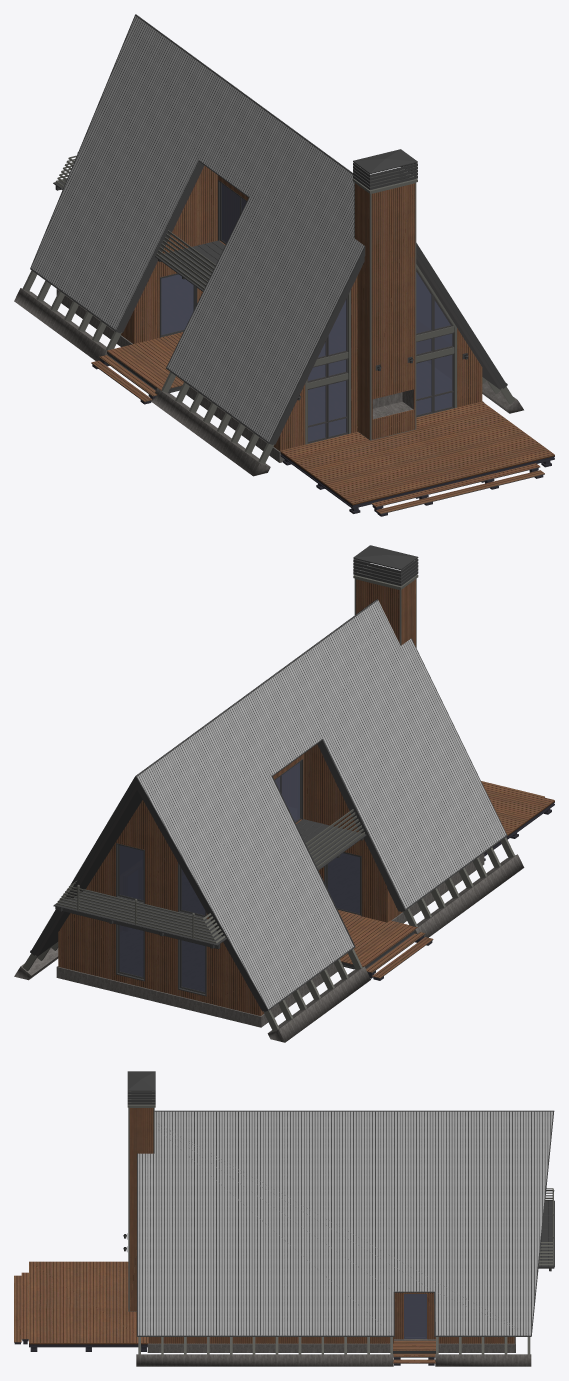
The model's file is Maison en A.glb.
3 renders of one model, top to bottom at view 1: azimuth 30°, elevation 25°; view 2: azimuth 150°, elevation 25°; view 3: azimuth 270°, elevation 25°, orthographic. The views are drawn at different scales.
Visible parts, largest first — view 1: Contemporary A-Frame.062, Contemporary A-Frame.071, Contemporary A-Frame.037, Contemporary A-Frame.048, Contemporary A-Frame.047, Contemporary A-Frame.002, Contemporary A-Frame.061, Contemporary A-Frame.034, Contemporary A-Frame.051, Contemporary A-Frame.035, Contemporary A-Frame.036, Contemporary A-Frame.005 (+9 smaller); view 2: Contemporary A-Frame.062, Contemporary A-Frame.047, Contemporary A-Frame.048, Contemporary A-Frame.071, Contemporary A-Frame.002, Contemporary A-Frame.066, Contemporary A-Frame.001, Contemporary A-Frame.061, Contemporary A-Frame.035, Contemporary A-Frame.034, Contemporary A-Frame.040, Contemporary A-Frame.037 (+5 smaller); view 3: Contemporary A-Frame.062, Contemporary A-Frame.071, Contemporary A-Frame.002, Contemporary A-Frame.001, Contemporary A-Frame.047, Contemporary A-Frame.037, Contemporary A-Frame.059, Contemporary A-Frame.010, Contemporary A-Frame.034, Contemporary A-Frame.036, Contemporary A-Frame.040, Contemporary A-Frame.005 (+4 smaller).
Part boxes in pixels (left/top/right/bottom): Contemporary A-Frame.062: left=31, top=16, right=364, bottom=441; Contemporary A-Frame.071: left=91, top=332, right=554, bottom=513; Contemporary A-Frame.037: left=355, top=183, right=415, bottom=439; Contemporary A-Frame.048: left=161, top=184, right=452, bottom=441; Contemporary A-Frame.047: left=121, top=165, right=482, bottom=450; Contemporary A-Frame.002: left=14, top=288, right=523, bottom=476; Contemporary A-Frame.061: left=30, top=14, right=365, bottom=444; Contemporary A-Frame.034: left=22, top=270, right=514, bottom=464; Contemporary A-Frame.051: left=307, top=269, right=453, bottom=443; Contemporary A-Frame.035: left=121, top=164, right=502, bottom=444; Contemporary A-Frame.036: left=353, top=149, right=417, bottom=189; Contemporary A-Frame.005: left=353, top=169, right=417, bottom=440; Contemporary A-Frame.062: left=137, top=600, right=506, bottom=1008; Contemporary A-Frame.047: left=58, top=744, right=402, bottom=1015; Contemporary A-Frame.048: left=119, top=762, right=359, bottom=992; Contemporary A-Frame.071: left=338, top=781, right=554, bottom=978; Contemporary A-Frame.002: left=14, top=854, right=524, bottom=1042; Contemporary A-Frame.066: left=56, top=809, right=364, bottom=943; Contemporary A-Frame.001: left=56, top=853, right=484, bottom=1027; Contemporary A-Frame.061: left=135, top=599, right=506, bottom=1011; Contemporary A-Frame.035: left=35, top=743, right=399, bottom=1011; Contemporary A-Frame.034: left=22, top=837, right=514, bottom=1030; Contemporary A-Frame.040: left=53, top=889, right=226, bottom=945; Contemporary A-Frame.037: left=356, top=579, right=415, bottom=646; Contemporary A-Frame.062: left=138, top=1111, right=552, bottom=1335; Contemporary A-Frame.071: left=14, top=1261, right=435, bottom=1363; Contemporary A-Frame.002: left=136, top=1354, right=531, bottom=1366; Contemporary A-Frame.001: left=147, top=1337, right=515, bottom=1352; Contemporary A-Frame.047: left=148, top=1292, right=514, bottom=1343; Contemporary A-Frame.037: left=129, top=1108, right=153, bottom=1311; Contemporary A-Frame.059: left=137, top=1111, right=554, bottom=1336; Contemporary A-Frame.010: left=404, top=1294, right=426, bottom=1338; Contemporary A-Frame.034: left=138, top=1337, right=530, bottom=1354; Contemporary A-Frame.036: left=127, top=1071, right=155, bottom=1104; Contemporary A-Frame.040: left=538, top=1200, right=554, bottom=1267; Contemporary A-Frame.005: left=127, top=1091, right=155, bottom=1311.
Size of the model in its own units: 12.18 by 11.73 by 24.69.
Materials: 9 (5 with a texture image).
